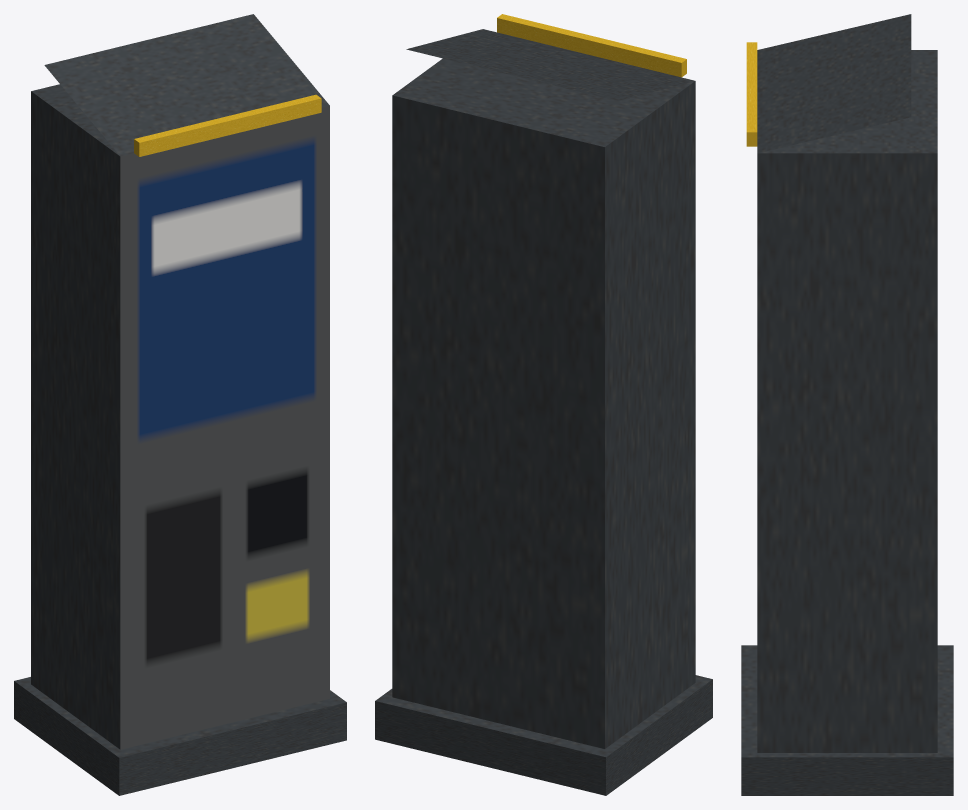
The model's file is ticketautomat_h3.glb.
3 renders of one model, left to right at view 1: azimuth 30°, elevation 25°; view 2: azimuth 150°, elevation 25°; view 3: azimuth 270°, elevation 25°, orthographic.
Parts seen in each view (by area): view 1: H3; view 2: H3; view 3: H3.
Boxes of the visible parts, <box> form: H3: <box>14,14,346,795</box>; H3: <box>375,14,712,795</box>; H3: <box>741,14,953,795</box>.
Bounding box in the file's own units: 0.5 × 1.4 × 0.4.
Materials: 1 (1 with a texture image).
